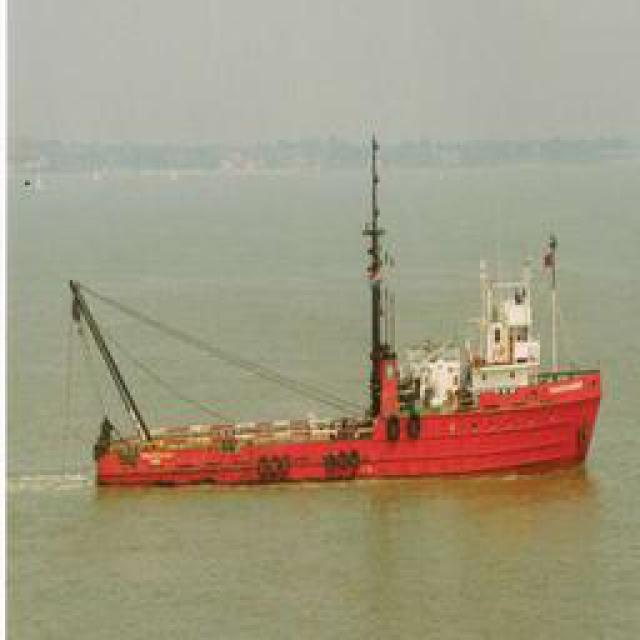Ship: (80, 195, 608, 485)
